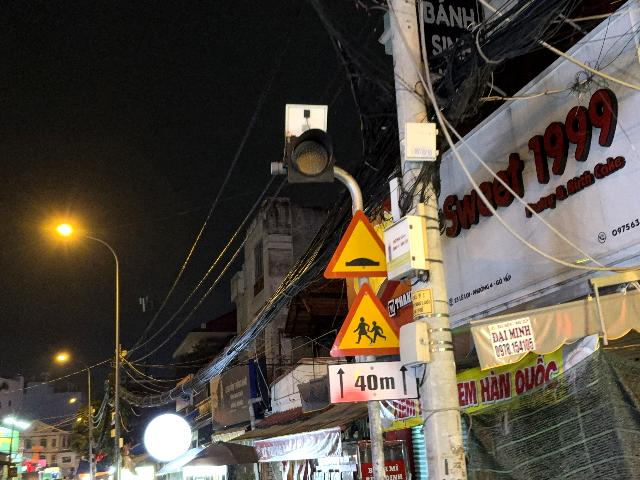duong-co-go-giam-toc: (322, 210, 386, 278)
tre-em-qua-duong: (330, 283, 400, 356)
